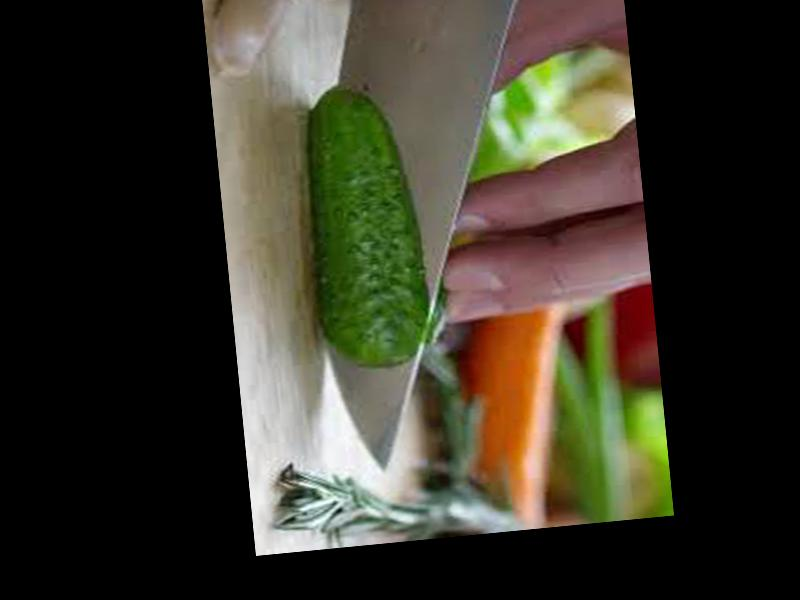Cucumber: (293, 82, 435, 374)
